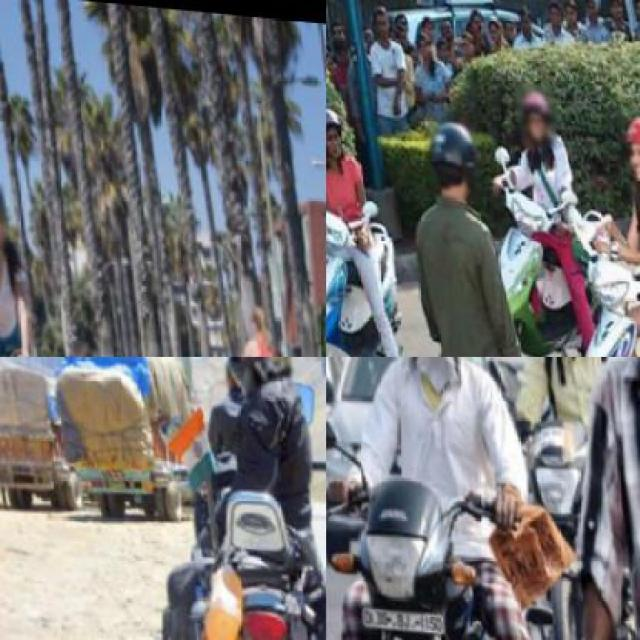With Helmet: (422, 105, 482, 200), (512, 76, 556, 144), (209, 357, 294, 391), (611, 99, 638, 190), (326, 99, 349, 172), (0, 168, 9, 250)
Without Helmet: (241, 284, 267, 330), (66, 334, 92, 355)
